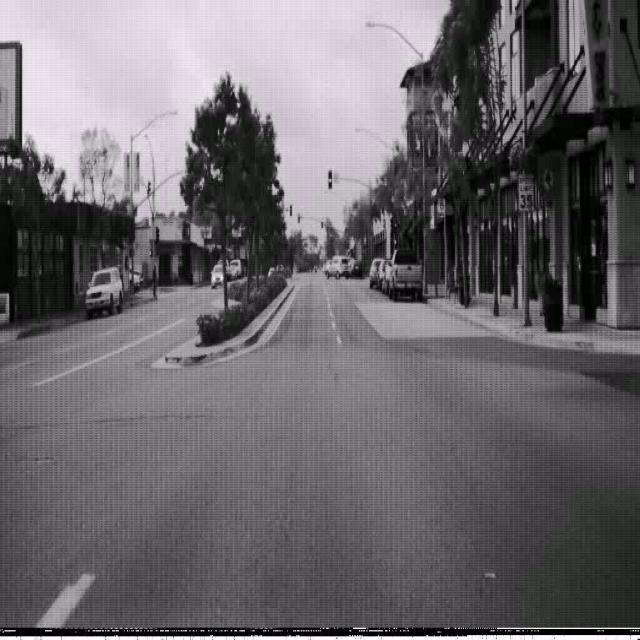speedLimit35: (517, 172, 535, 212)
